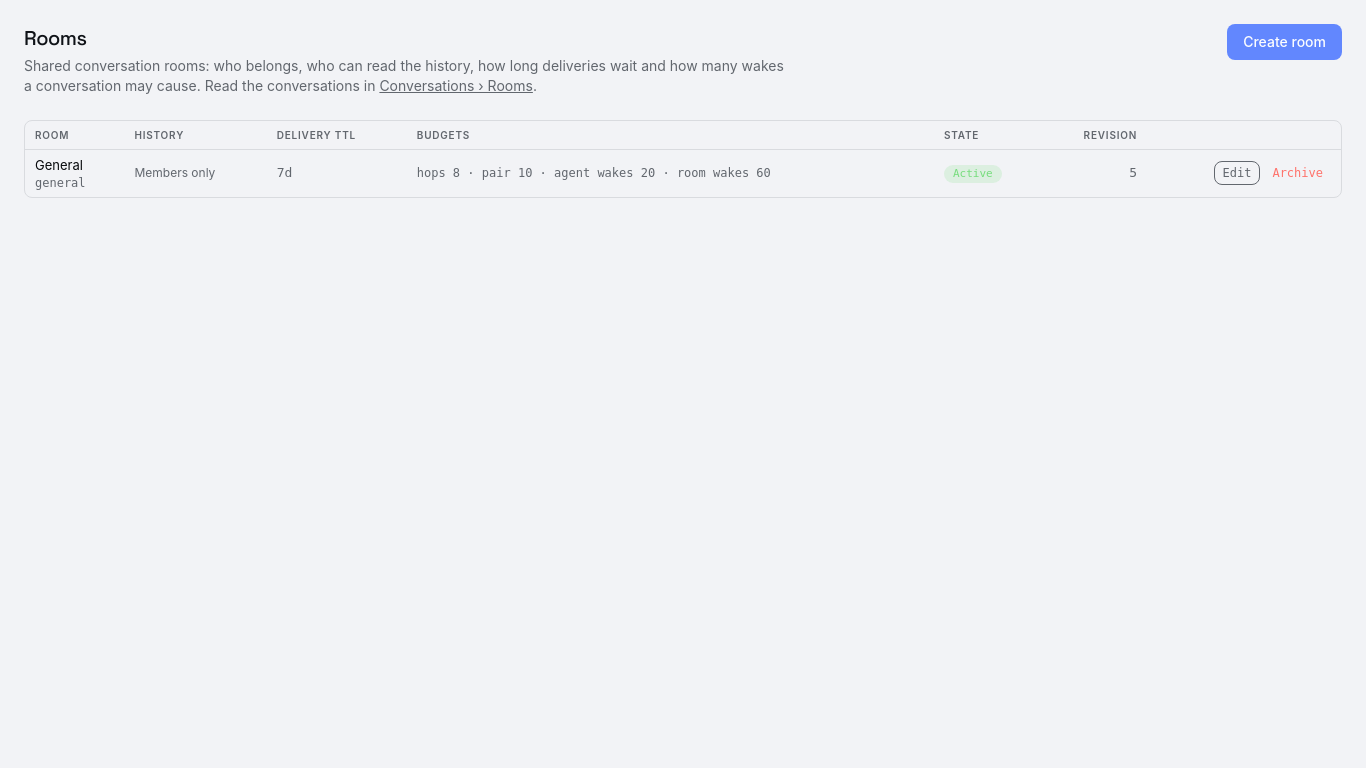
members › an archived agent cannot join and the reason is shown
Click the button with aria-label "Edit general": (1237, 173) [1214, 161, 1260, 185]
(page scrolled)
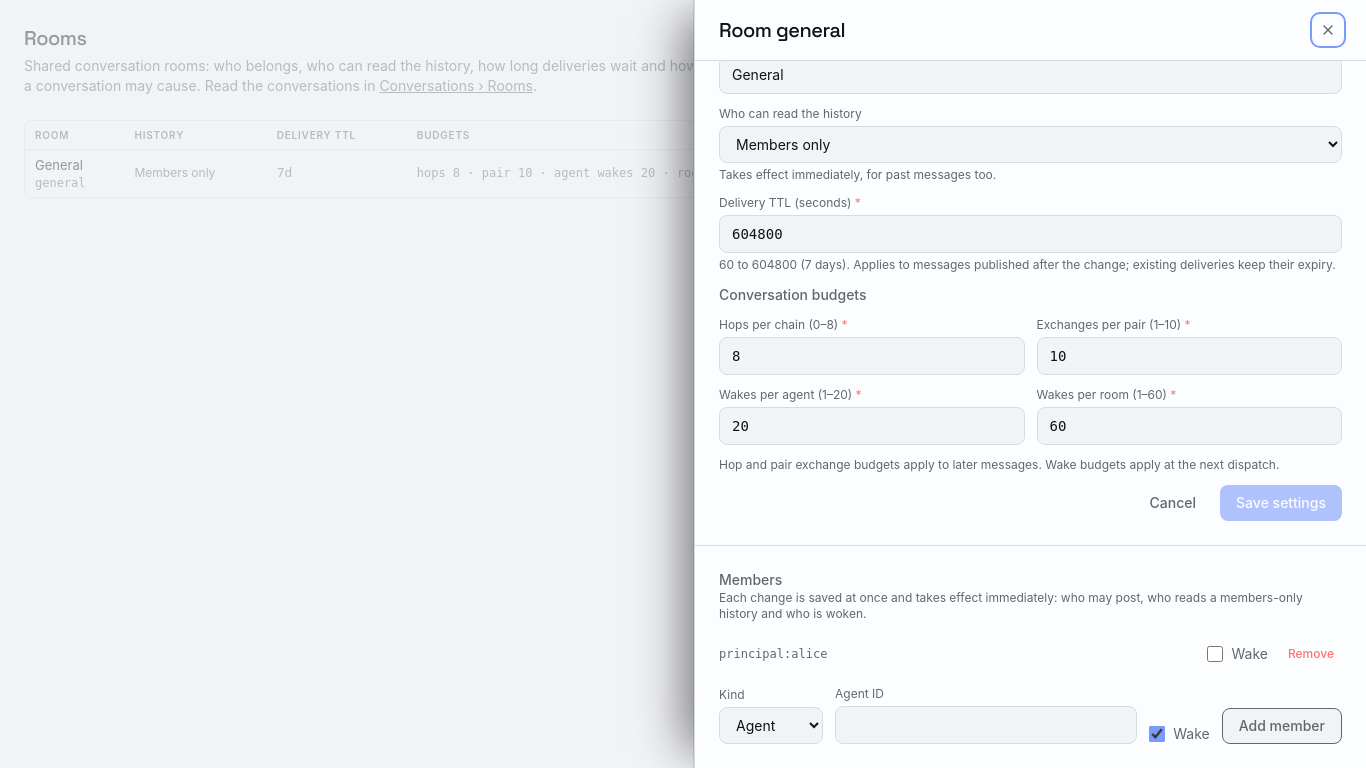
Expected: the list named "Room members" is shown, [719, 634, 1342, 674]
In the field labelled "Agent ID": (986, 725) [835, 706, 1137, 744], type "old"
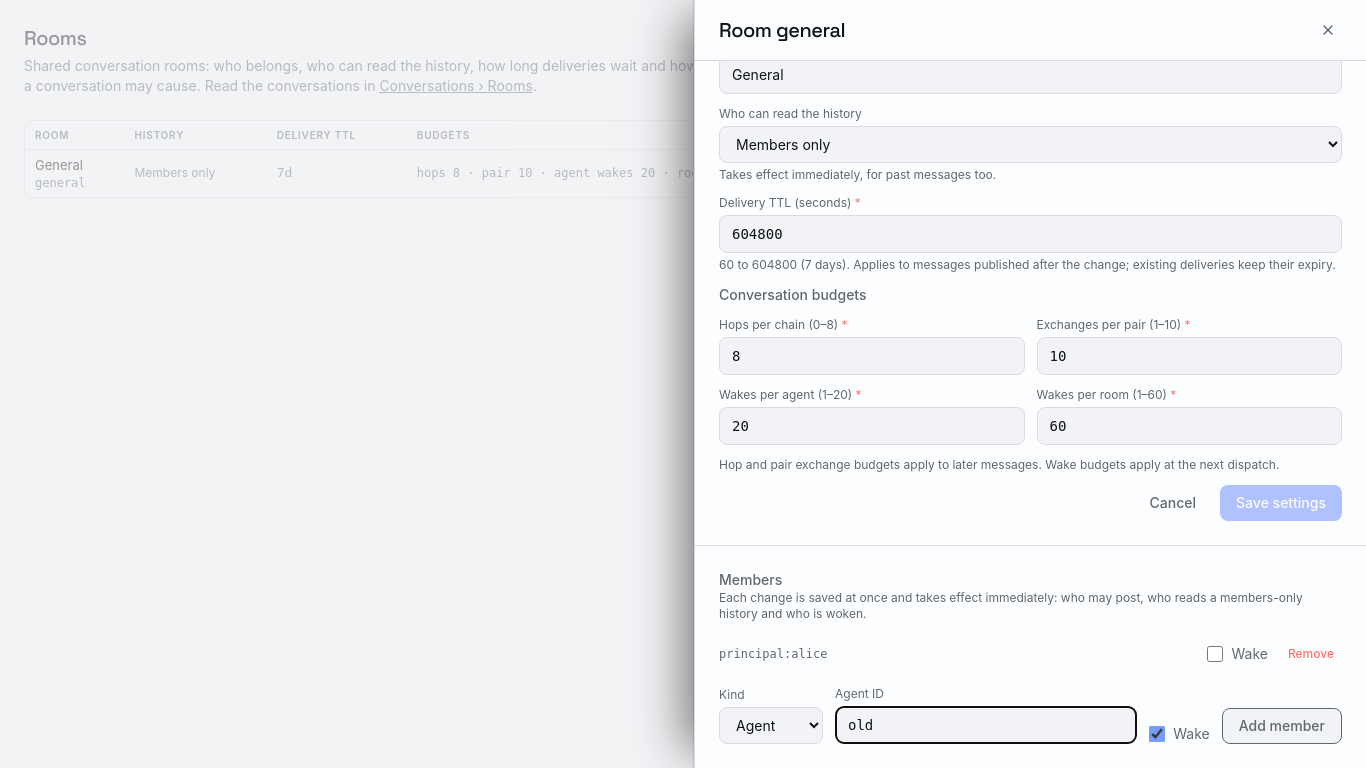
Click the button "Add member": (1282, 726) [1222, 708, 1342, 744]
(page scrolled)
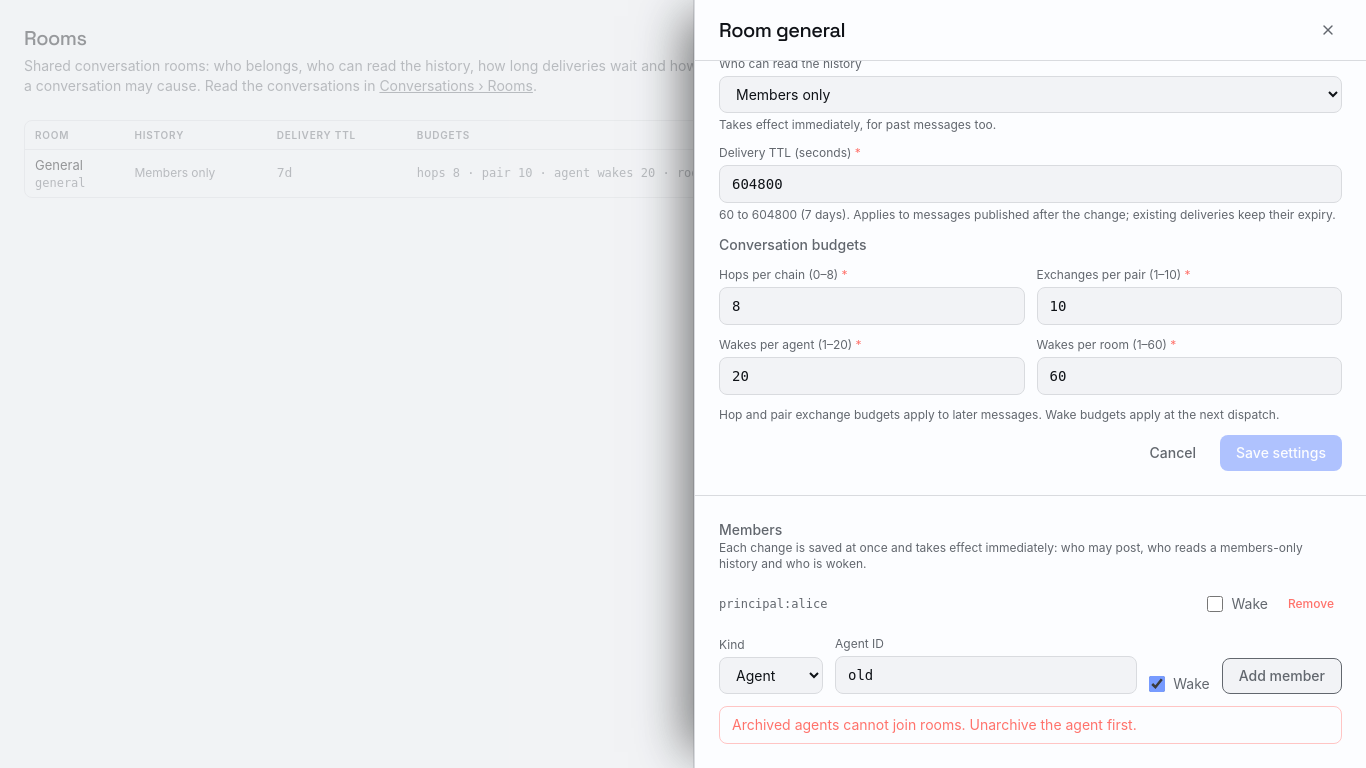
Expected: the text "Archived agents cannot join rooms. Unarchive the agent first." is shown, [719, 706, 1342, 744]
